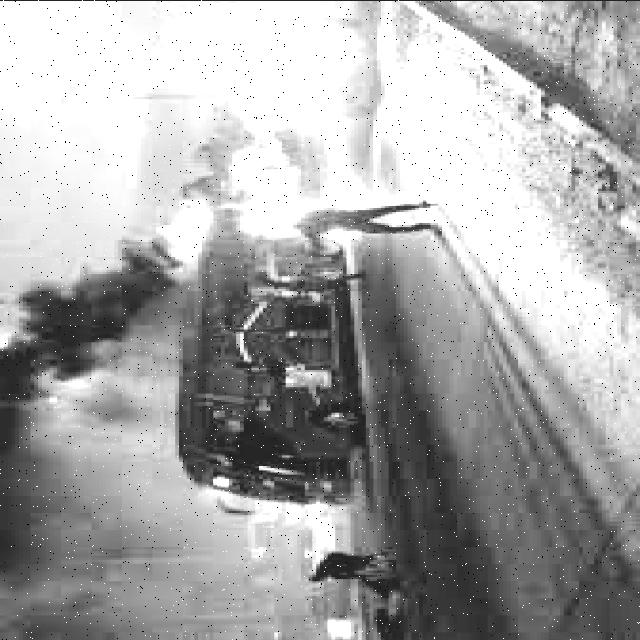api: (112, 187, 352, 293)
